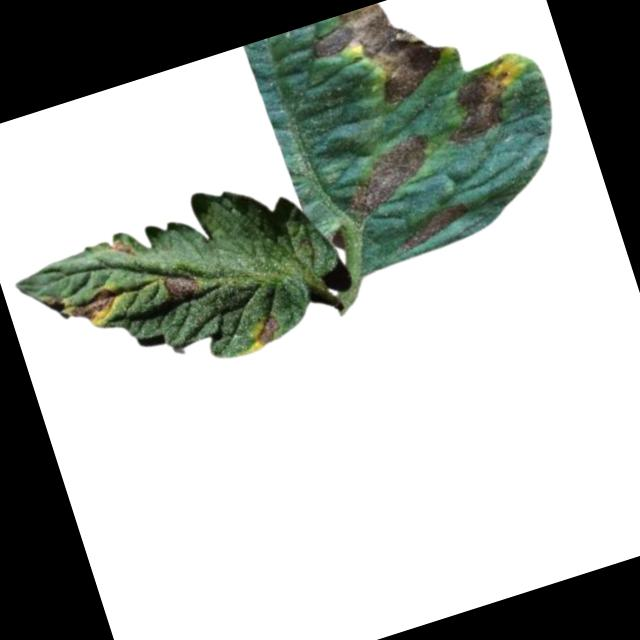Early_blight: (302, 1, 457, 122), (334, 124, 449, 221), (434, 62, 527, 149), (396, 199, 475, 256), (67, 280, 124, 331), (161, 264, 207, 302), (247, 311, 286, 347), (105, 231, 137, 260)
